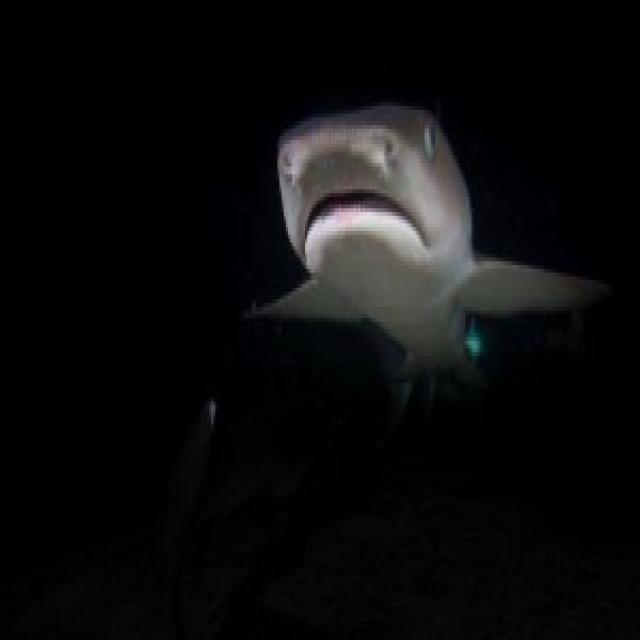Shark: (230, 72, 608, 409)
